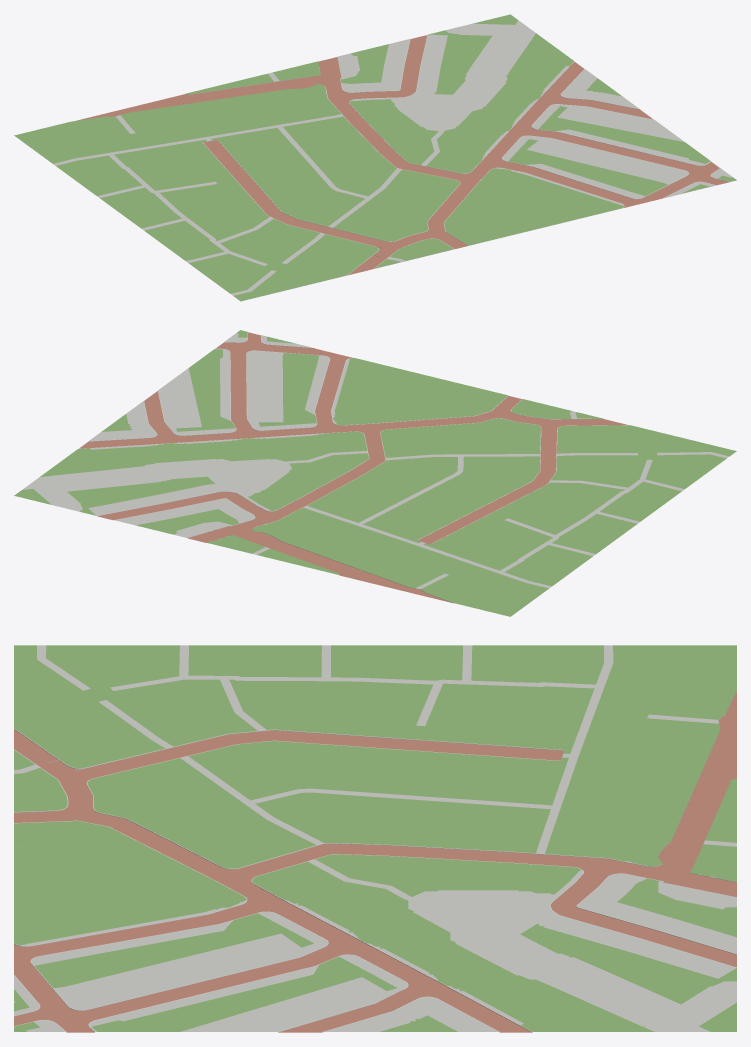
Rendered from ground_9_13.glb.
The picture shows the model from 3 angles, top to bottom: view 1: azimuth 30°, elevation 25°; view 2: azimuth 150°, elevation 25°; view 3: azimuth 270°, elevation 25°; orthographic projection. The views are drawn at different scales.
Parts seen in each view (by area): view 1: ground_9_13; view 2: ground_9_13; view 3: ground_9_13.
Part boxes in pixels (left/top/right/bottom): ground_9_13: left=14, top=14, right=736, bottom=301; ground_9_13: left=14, top=330, right=736, bottom=616; ground_9_13: left=14, top=645, right=736, bottom=1032.
Bounding box in the file's own units: 200 × 0.12 × 158.
